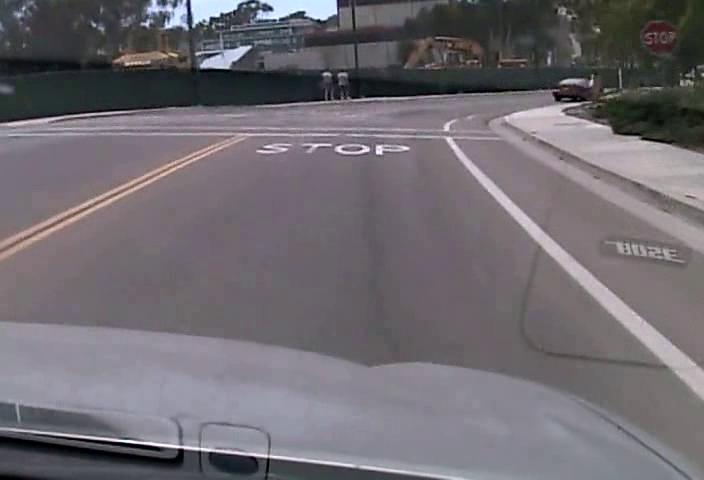stop: (639, 19, 679, 56)
